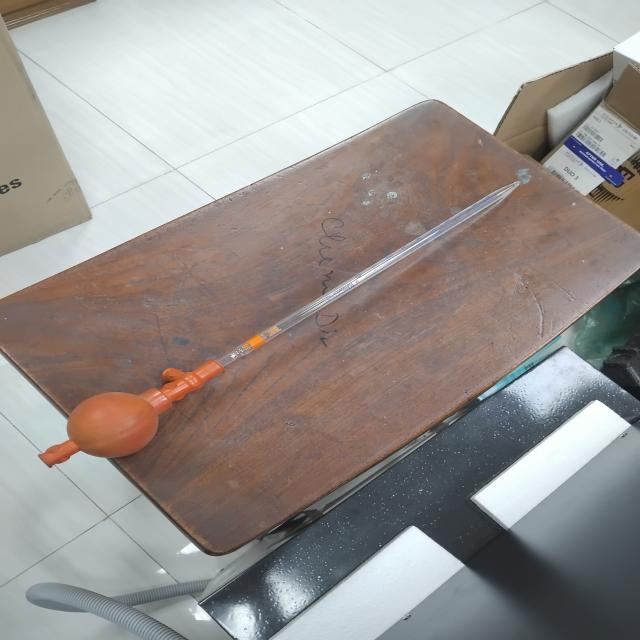Volumetric_Pipet: (24, 154, 548, 488)
